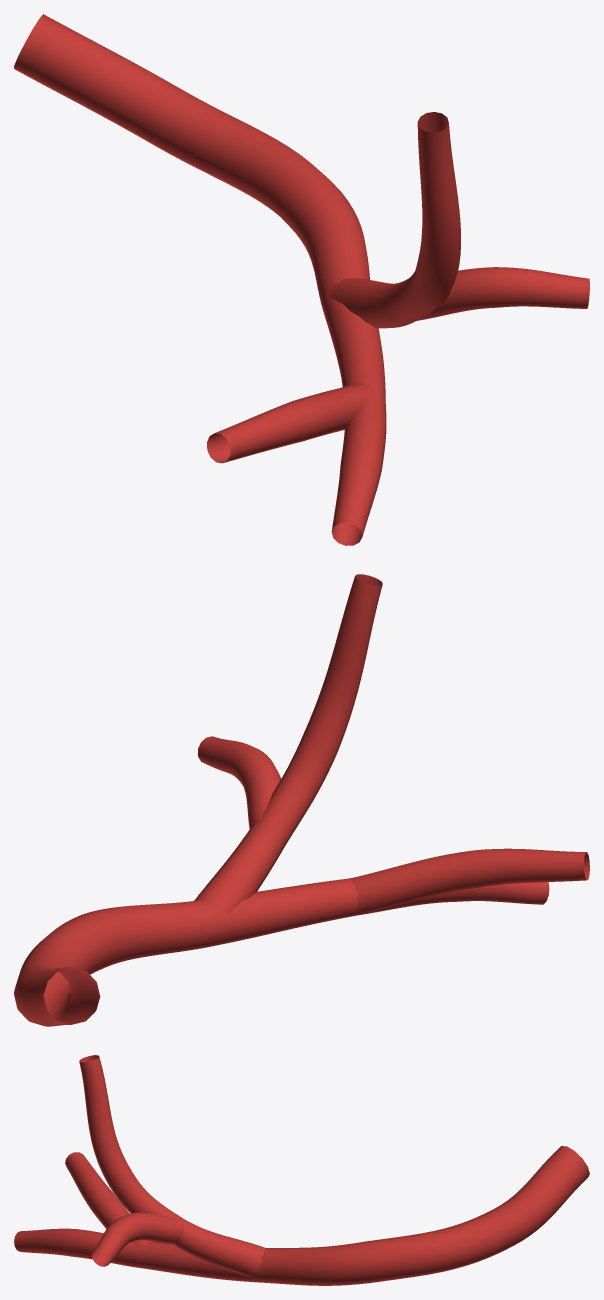
The picture shows the model from 3 angles, top to bottom: view 1: azimuth 30°, elevation 25°; view 2: azimuth 150°, elevation 25°; view 3: azimuth 270°, elevation 25°; orthographic projection. The views are drawn at different scales.
Visible parts, largest first — view 1: 左肺尖段动脉; view 2: 左肺尖段动脉; view 3: 左肺尖段动脉.
Boxes of the visible parts, left/top/right/bottom form: 左肺尖段动脉: left=14, top=14, right=589, bottom=545; 左肺尖段动脉: left=14, top=574, right=589, bottom=1026; 左肺尖段动脉: left=14, top=1055, right=589, bottom=1285.
Size of the model in its own units: 0.0652 by 0.0558 by 0.1217.
